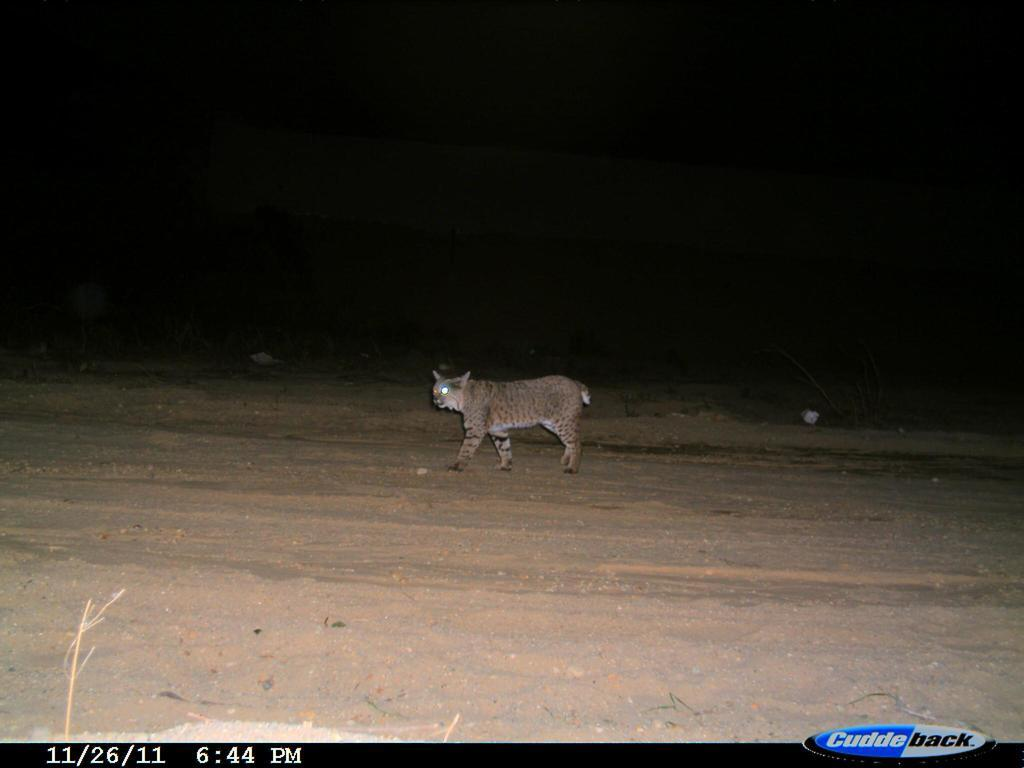bobcat: (428, 365, 601, 479)
